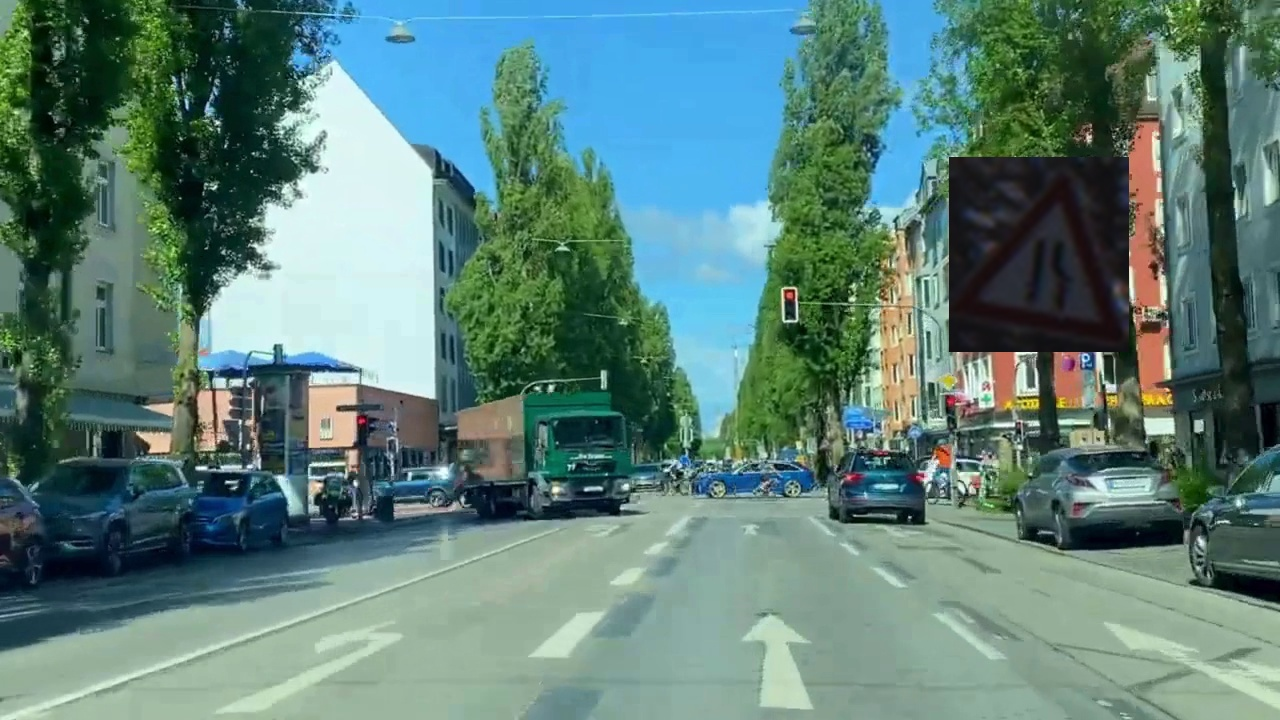Road narrows: (949, 157, 1129, 352)
